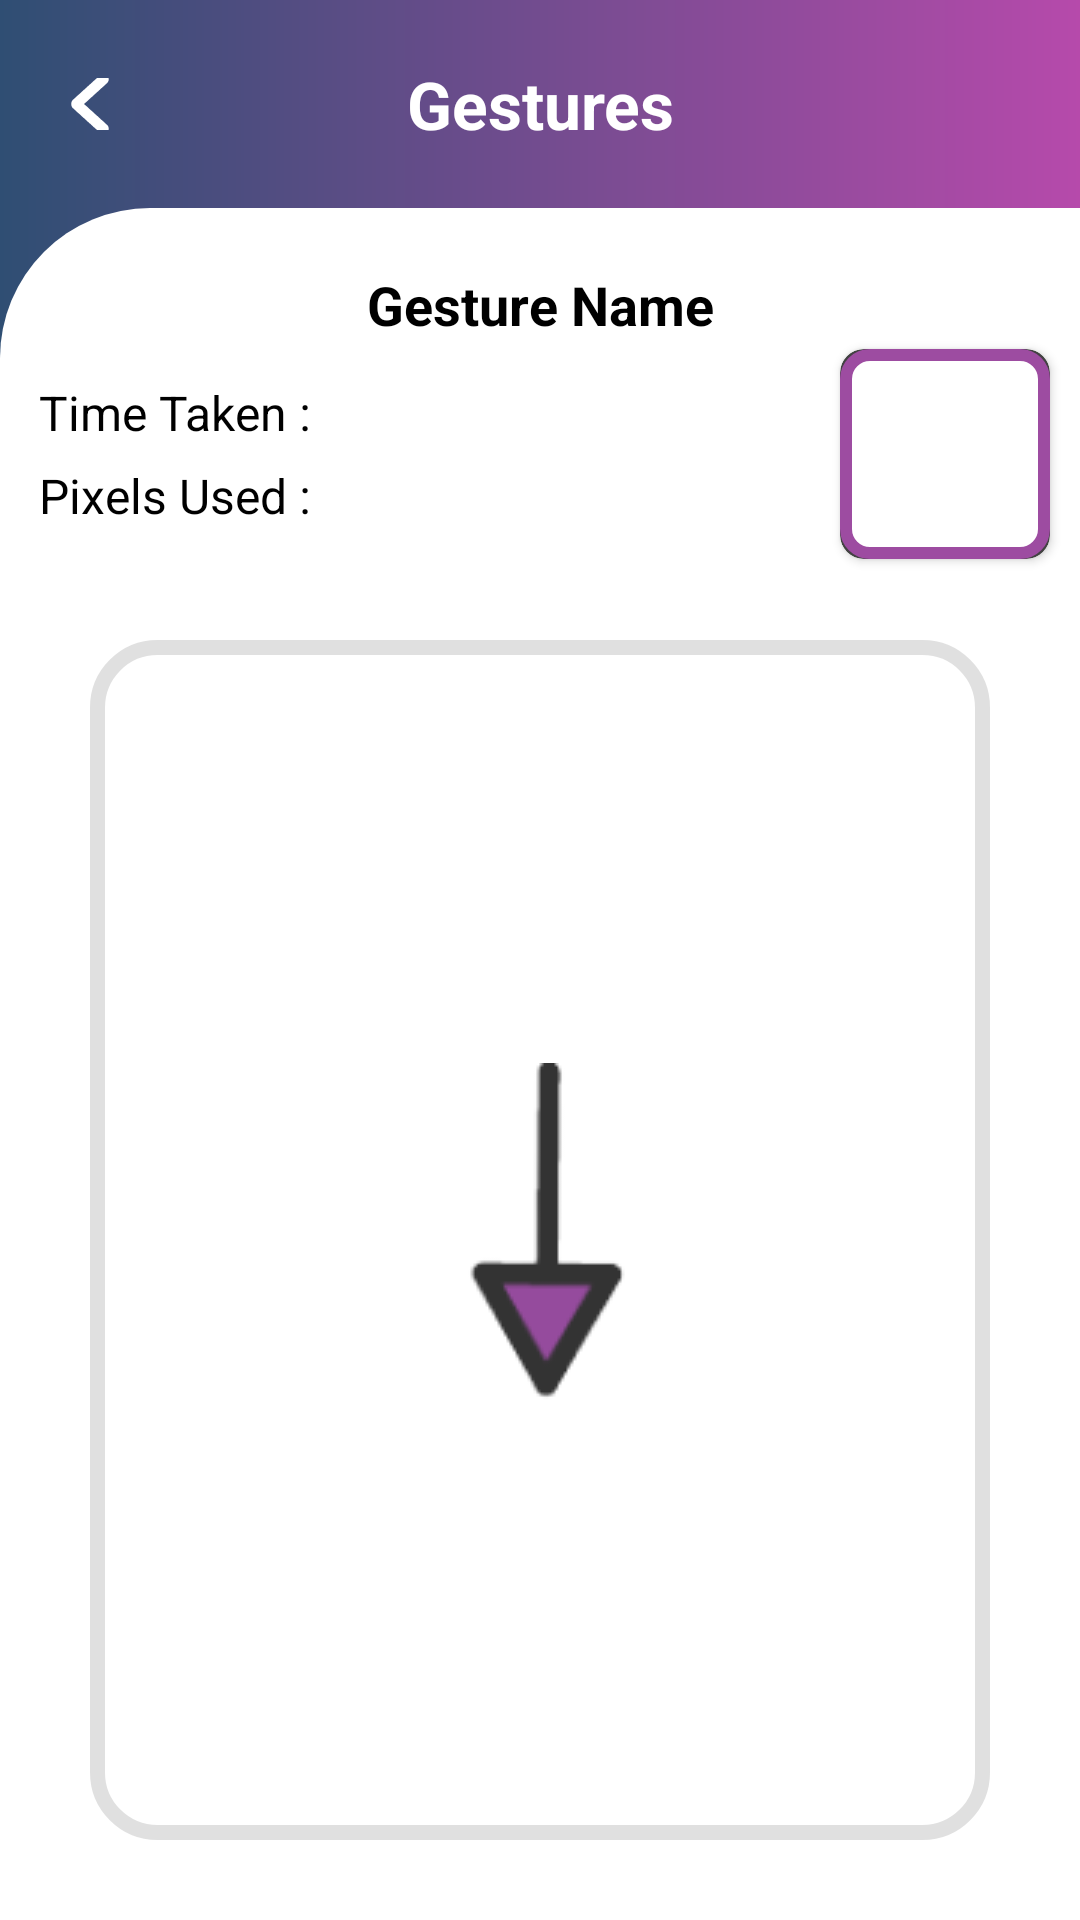

Icons on this 1080 x 1920 Android screen, each with the point to tap as point (x, y):
one finger down arrow: point (546, 1230)
